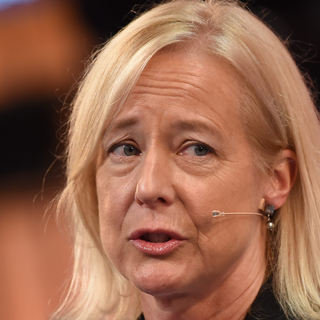eye: (166, 138, 219, 162), (104, 136, 144, 163)
